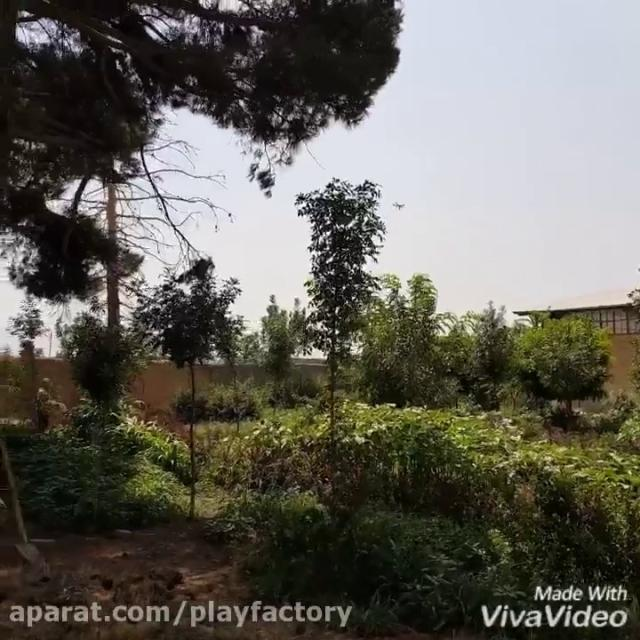drone: (390, 197, 406, 210)
